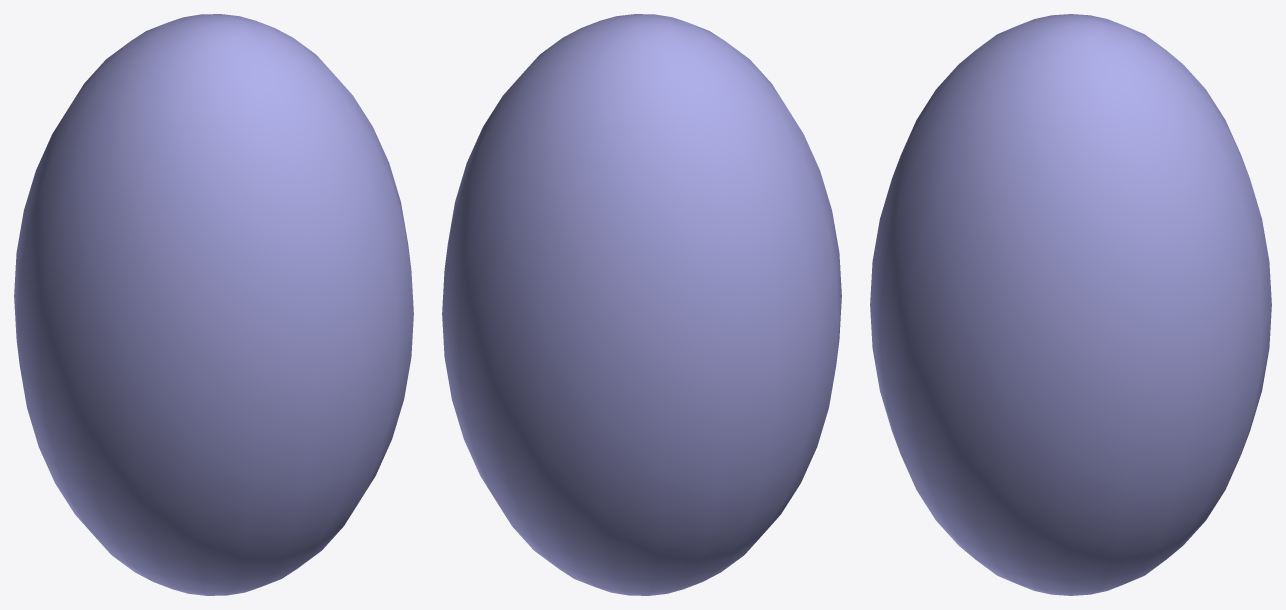
Rendered from EGG.fbx.
The picture shows the model from 3 angles, left to right: view 1: azimuth 30°, elevation 25°; view 2: azimuth 150°, elevation 25°; view 3: azimuth 270°, elevation 25°; orthographic projection.
Parts seen in each view (by area): view 1: EGG; view 2: EGG; view 3: EGG.
Boxes of the visible parts, x1,y1,x2,y2 form: EGG: (14,14,413,595); EGG: (442,14,841,595); EGG: (870,14,1271,595).
Size of the model in its own units: 2.79 by 4.26 by 2.79.
